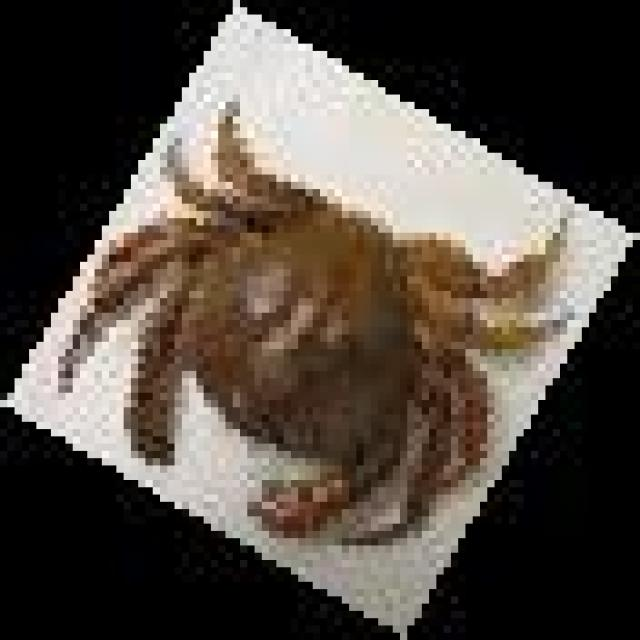Native Rock crab: (58, 102, 560, 538)
